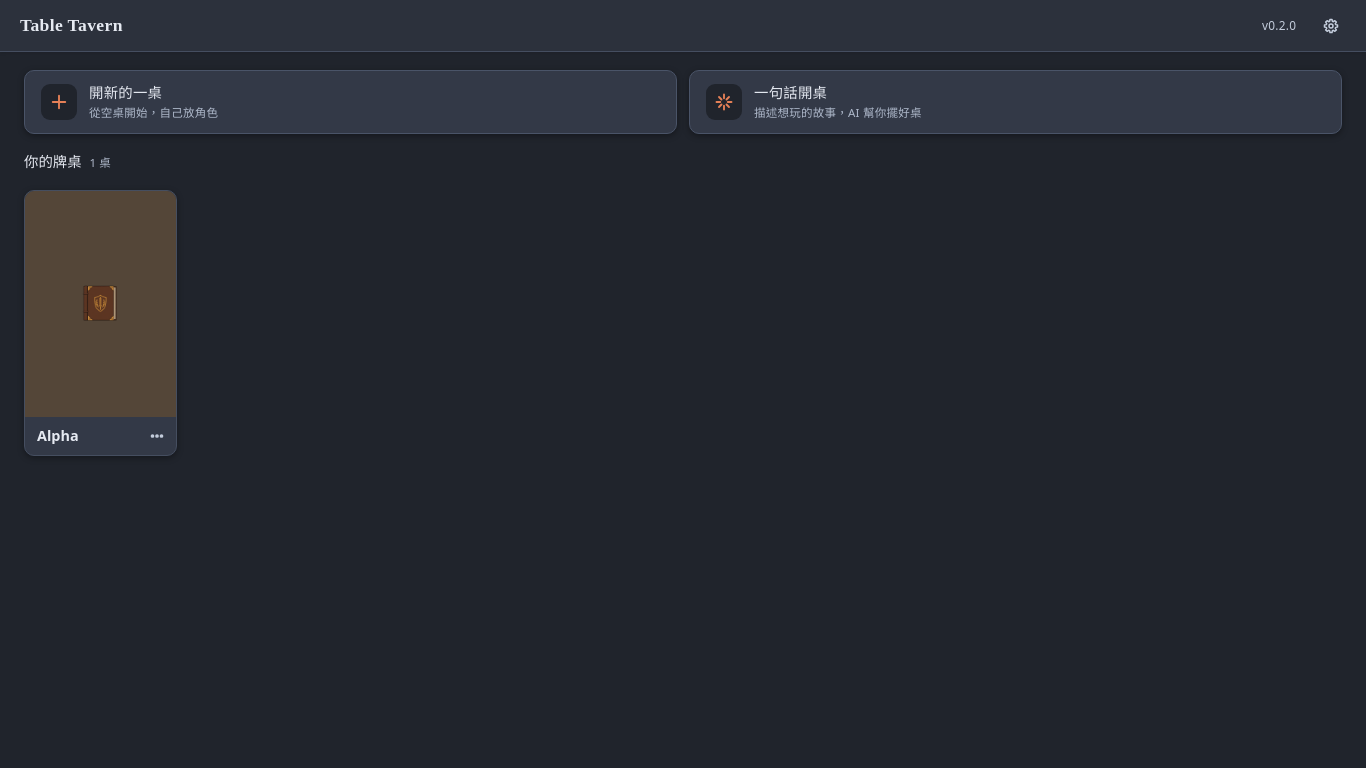
Test: lobby and table navigation › focus after an archived row disappears › narrow rail panel: next row first, then the add button when the panel closes
Click the button named "進入 Alpha" at (100, 304), box [25,191,176,417]
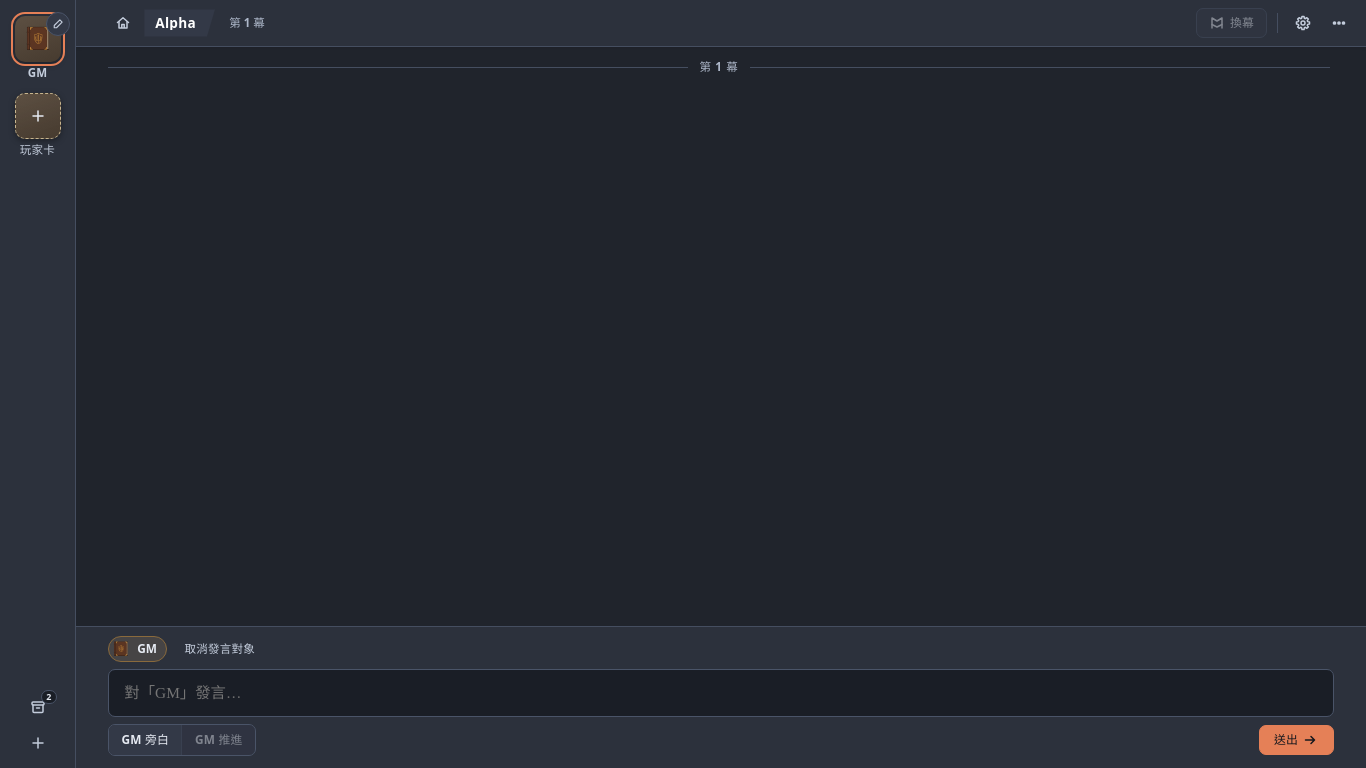
Click the button with class "rail-archive-btn" at (38, 707), box [22,692,52,722]
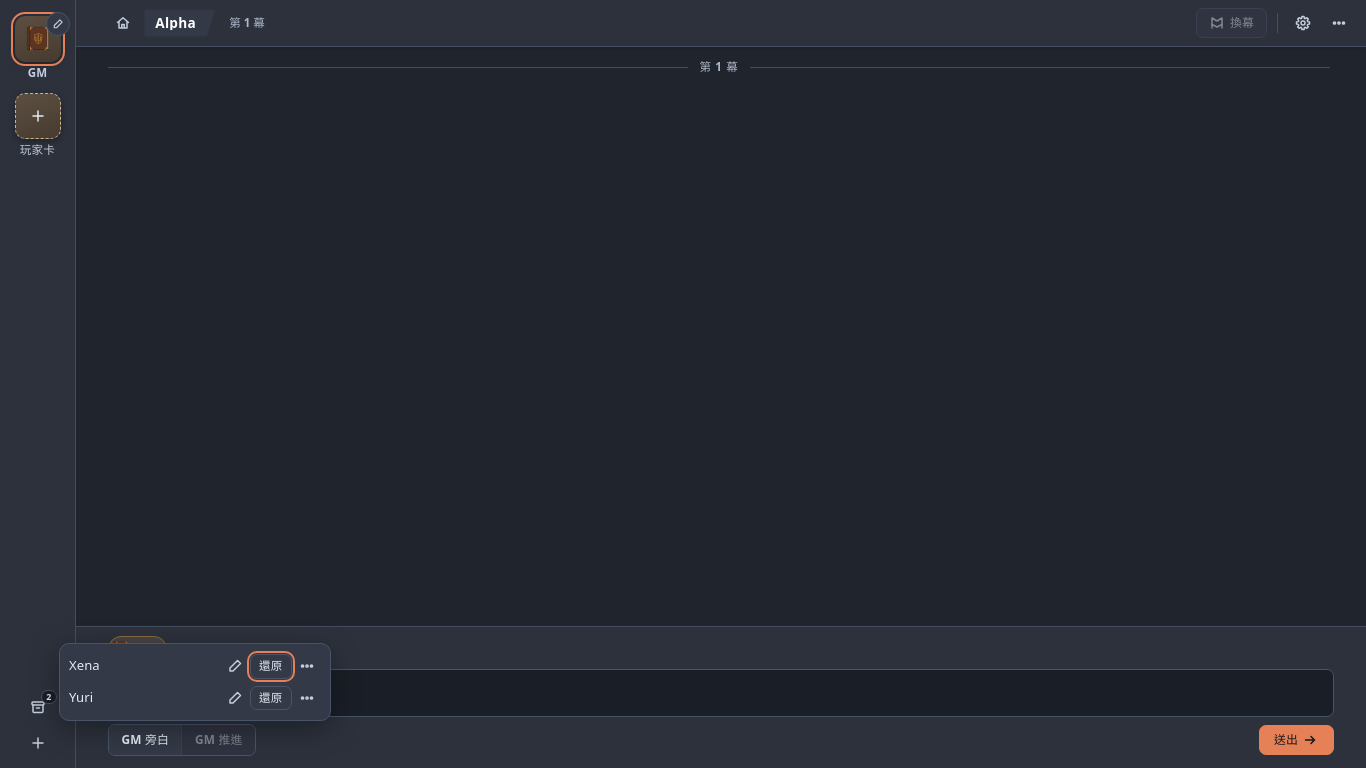
Click the button "還原" next to "Xena" at (271, 666), box [250,654,292,678]
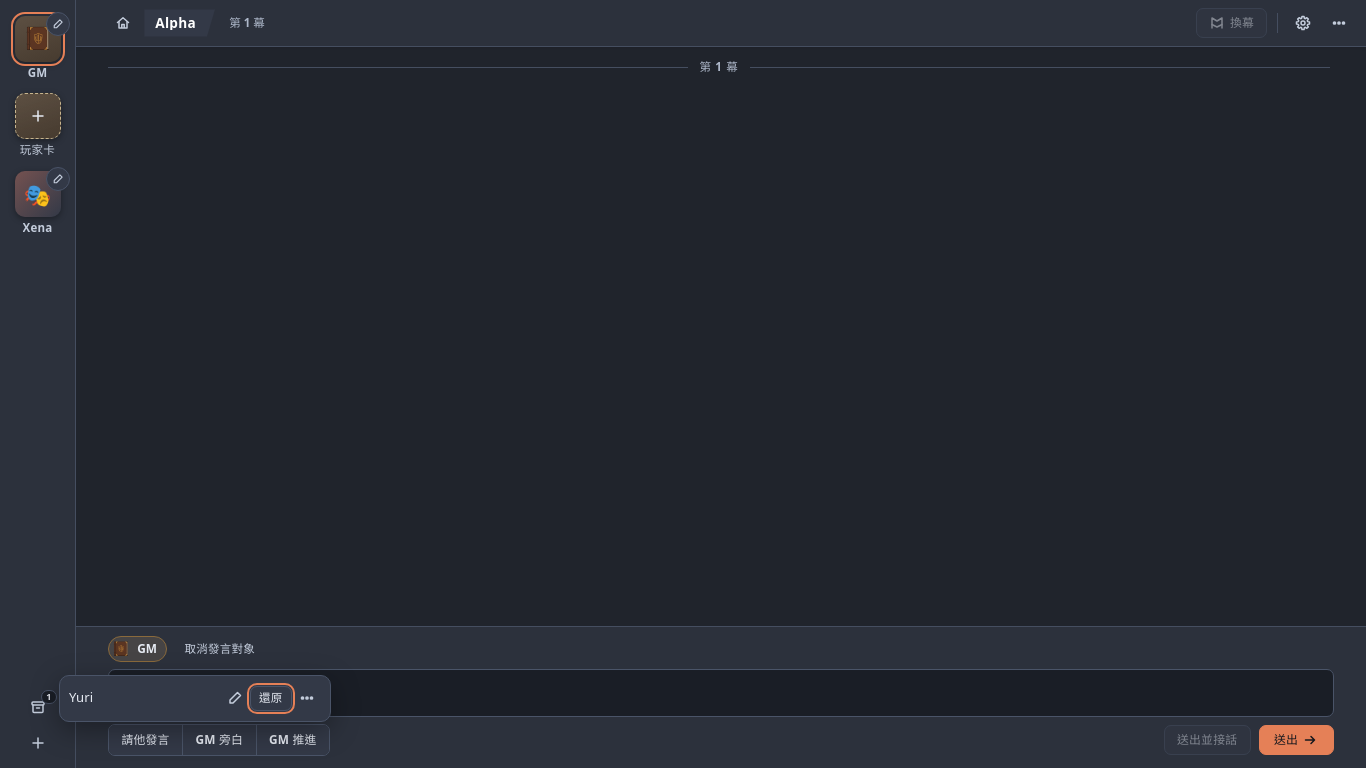
Click the button "還原" at (271, 698), box [250,686,292,710]
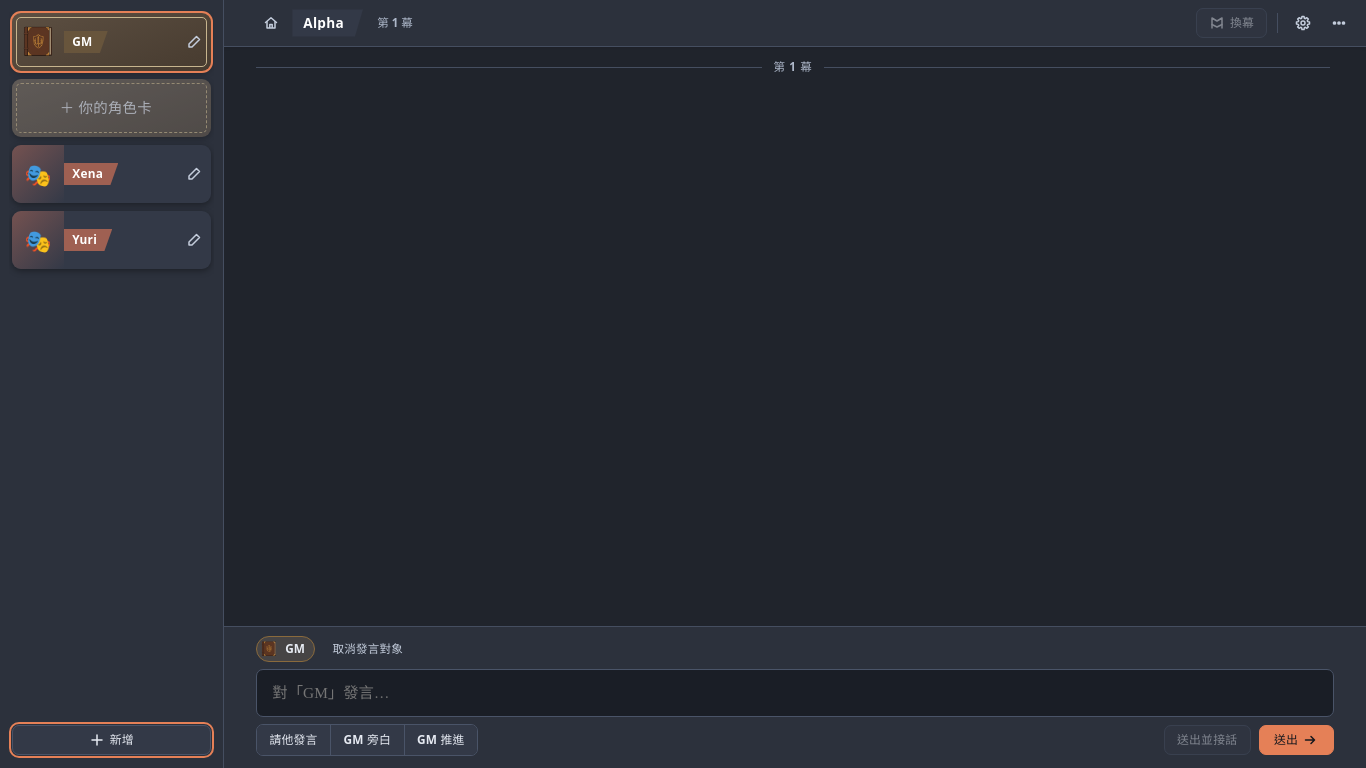
Check: the dialog with class "archive-popover" is gone
